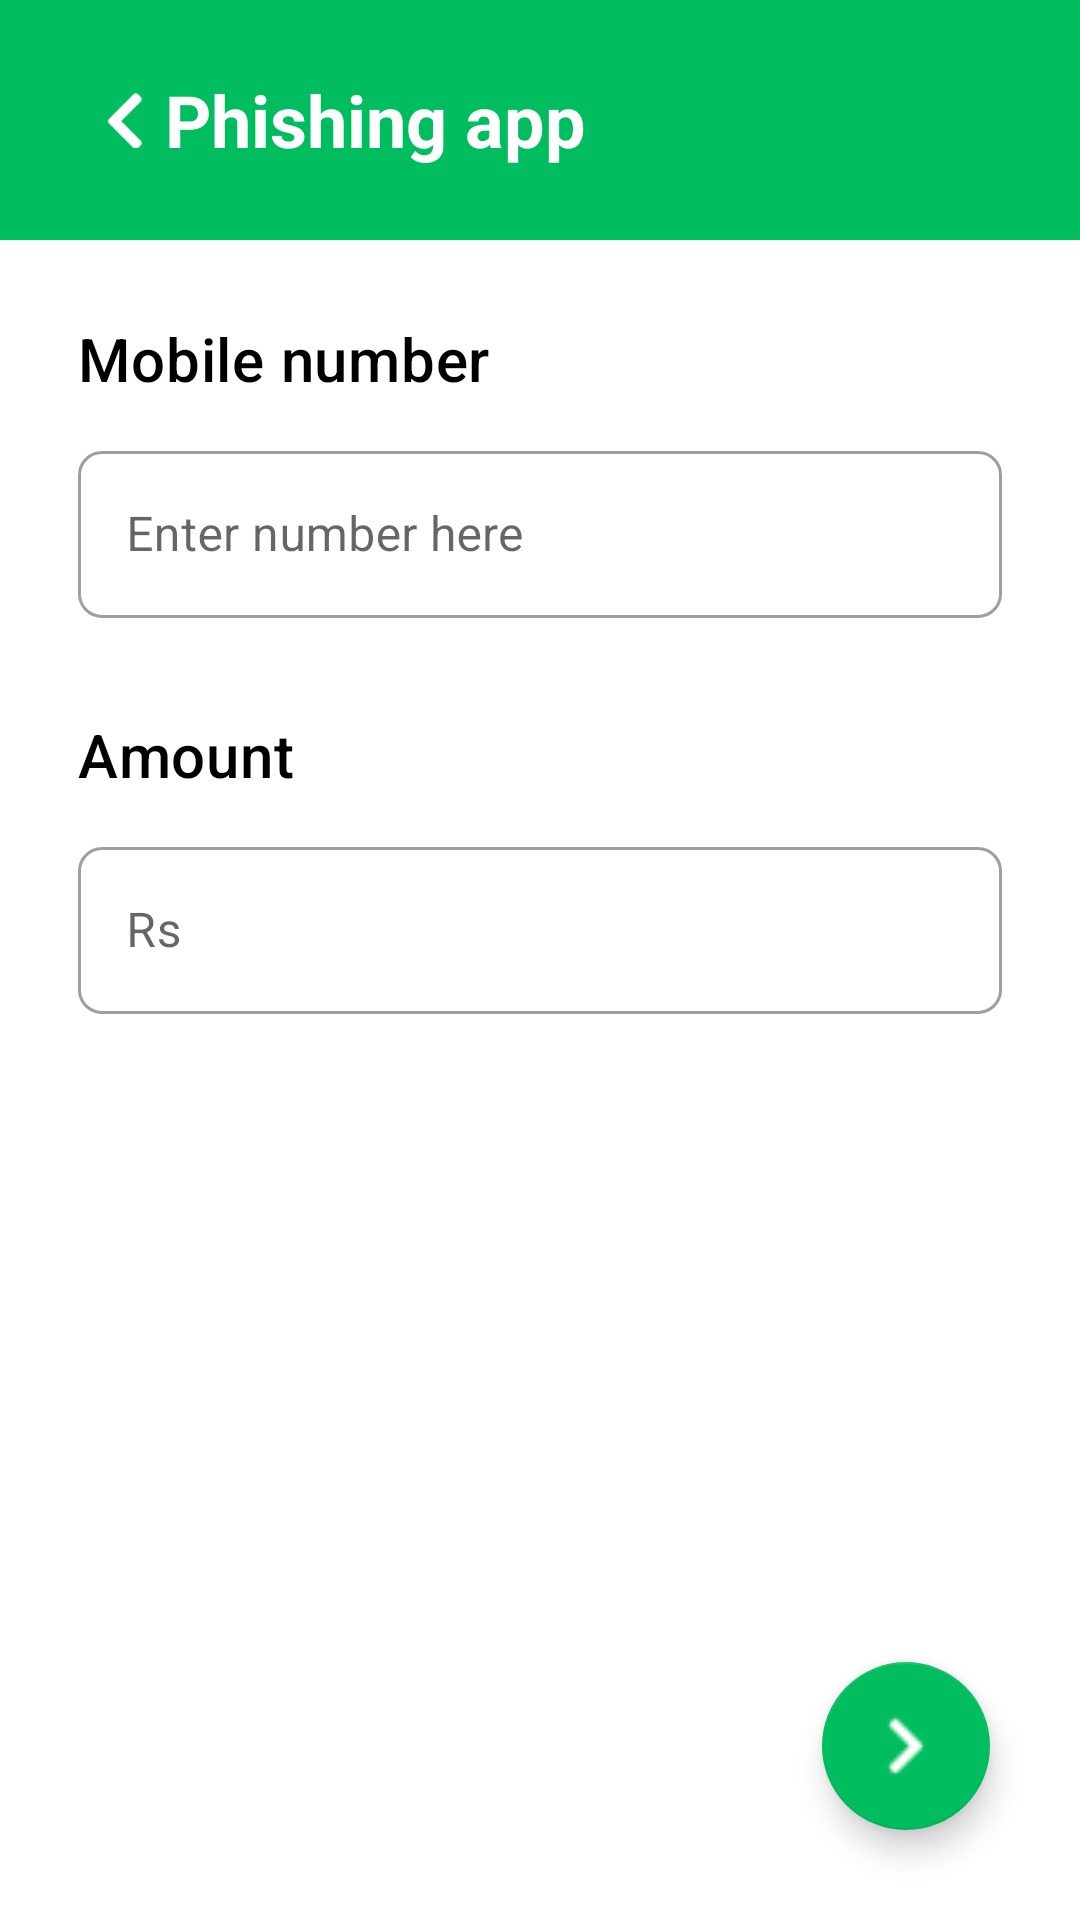

Icon click points for this 1080x1920 phone screenshot, format point (x, y):
back: point (124, 120)
forward: point (906, 1746)
